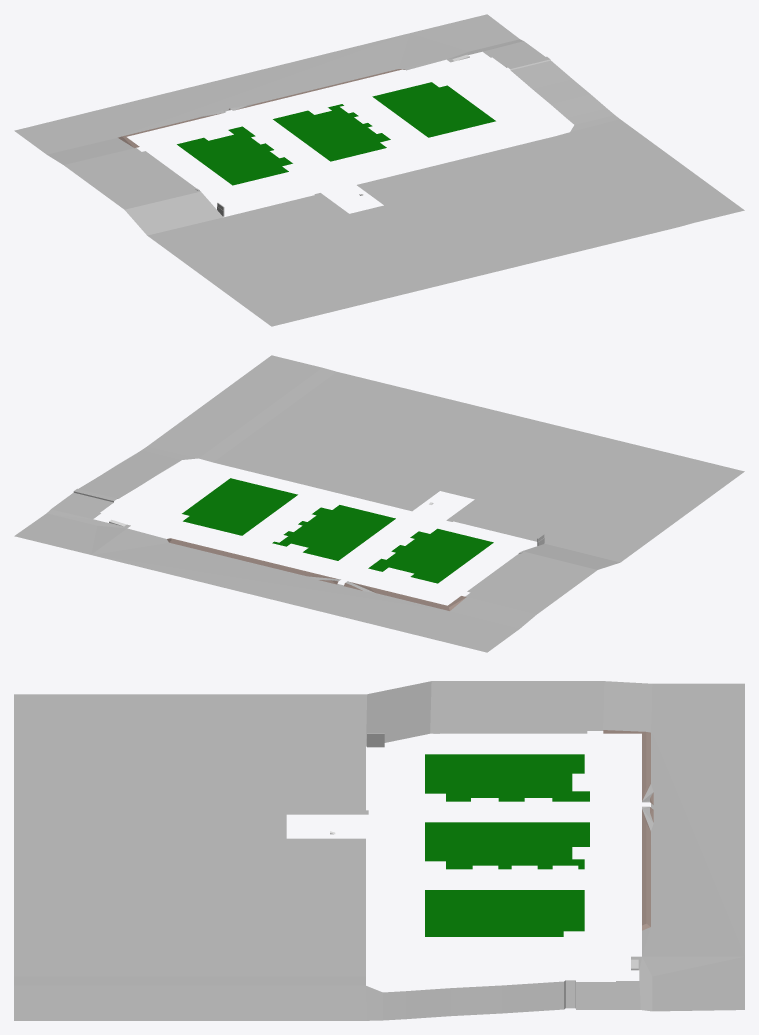
The picture shows the model from 3 angles, top to bottom: view 1: azimuth 30°, elevation 25°; view 2: azimuth 150°, elevation 25°; view 3: azimuth 270°, elevation 25°; orthographic projection. The views are drawn at different scales.
Parts seen in each view (by area): view 1: 20FpTZCqJy2vhVJYtjuIce; view 2: 20FpTZCqJy2vhVJYtjuIce; view 3: 20FpTZCqJy2vhVJYtjuIce.
Boxes of the visible parts, <box> form: 20FpTZCqJy2vhVJYtjuIce: <box>14,14,744,326</box>; 20FpTZCqJy2vhVJYtjuIce: <box>14,355,744,652</box>; 20FpTZCqJy2vhVJYtjuIce: <box>14,681,744,1020</box>.
Bounding box in the file's own units: 174 × 3.4 × 164.
